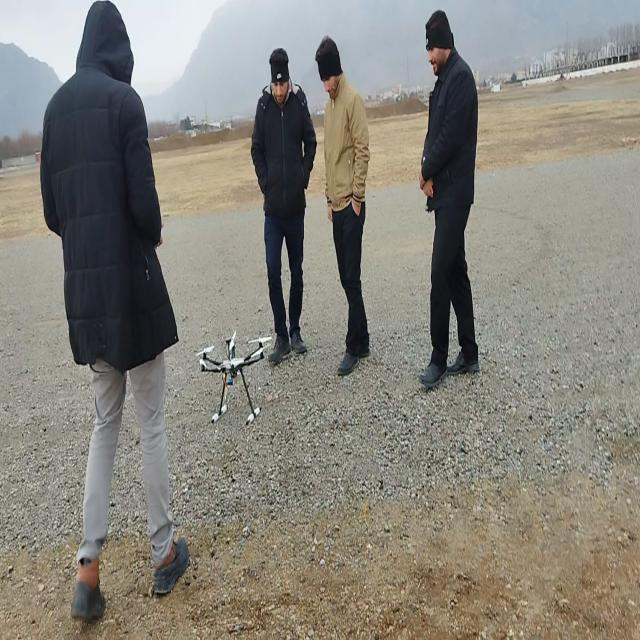drone: (195, 331, 269, 426)
